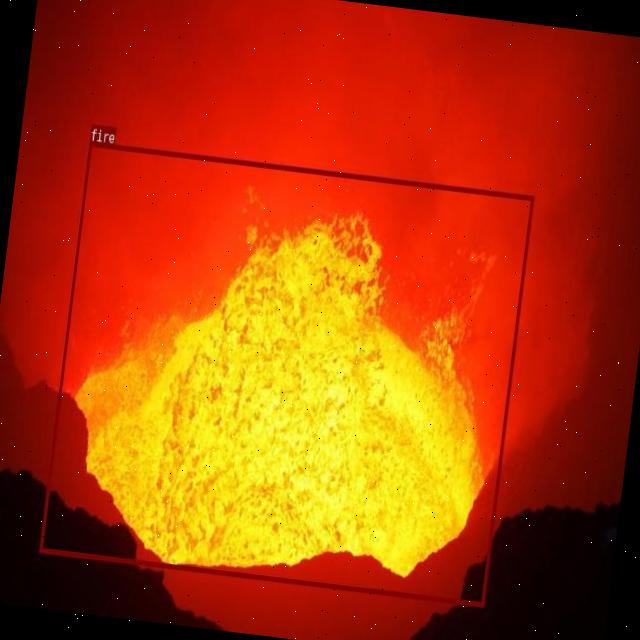fire: (38, 140, 533, 606)
